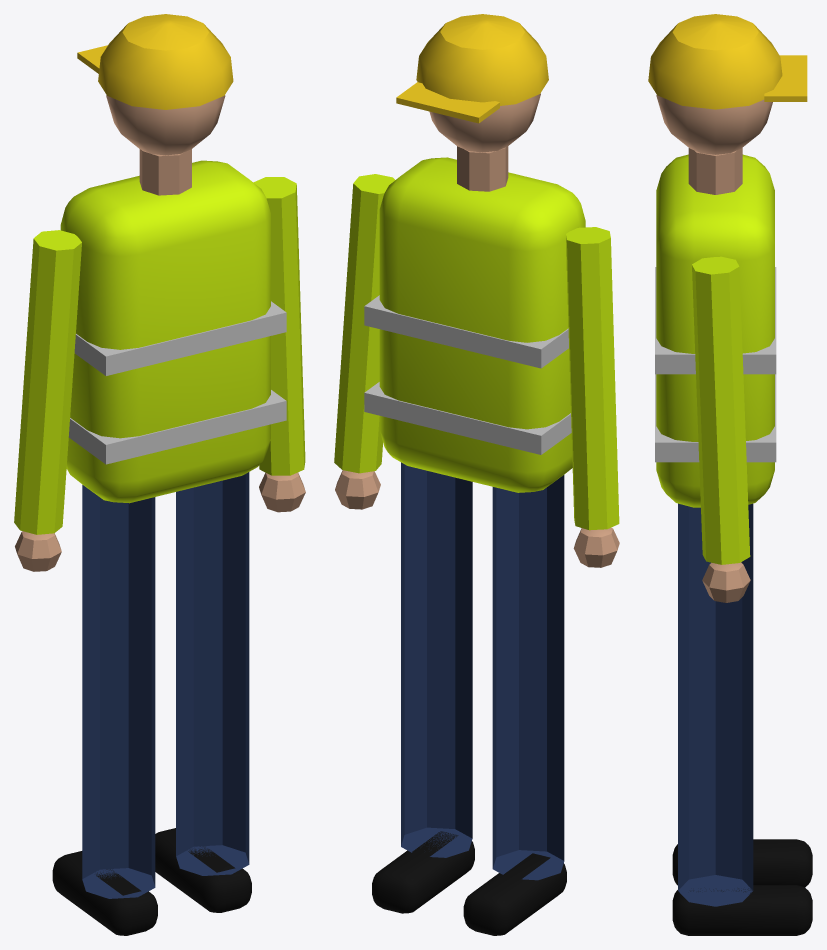
The model's file is people.crew.operative.glb.
The picture shows the model from 3 angles, left to right: view 1: azimuth 30°, elevation 25°; view 2: azimuth 150°, elevation 25°; view 3: azimuth 270°, elevation 25°; orthographic projection. The views are drawn at different scales.
Visible parts, largest first — view 1: main__hivis_yellow, main__denim, main__plastic_yellow, main__steel_stainless, main__skin, main__plastic_black; view 2: main__hivis_yellow, main__denim, main__plastic_yellow, main__plastic_black, main__steel_stainless, main__skin; view 3: main__hivis_yellow, main__denim, main__plastic_yellow, main__plastic_black, main__skin, main__steel_stainless.
Boxes of the visible parts, left/top/right/bottom form: main__hivis_yellow: left=14, top=160, right=305, bottom=534; main__denim: left=82, top=472, right=249, bottom=898; main__plastic_yellow: left=77, top=14, right=233, bottom=109; main__steel_stainless: left=68, top=301, right=286, bottom=464; main__skin: left=15, top=95, right=305, bottom=571; main__plastic_black: left=52, top=828, right=251, bottom=935; main__hivis_yellow: left=334, top=157, right=619, bottom=530; main__denim: left=401, top=462, right=564, bottom=880; main__plastic_yellow: left=396, top=14, right=548, bottom=123; main__plastic_black: left=372, top=831, right=566, bottom=935; main__steel_stainless: left=364, top=295, right=571, bottom=454; main__skin: left=335, top=93, right=619, bottom=567; main__hivis_yellow: left=656, top=154, right=774, bottom=564; main__denim: left=678, top=503, right=753, bottom=906; main__plastic_yellow: left=648, top=14, right=807, bottom=109; main__plastic_black: left=672, top=839, right=812, bottom=935; main__skin: left=656, top=95, right=772, bottom=602; main__steel_stainless: left=655, top=267, right=776, bottom=462.
Bounding box in the file's own units: 0.61 × 1.81 × 0.305.
